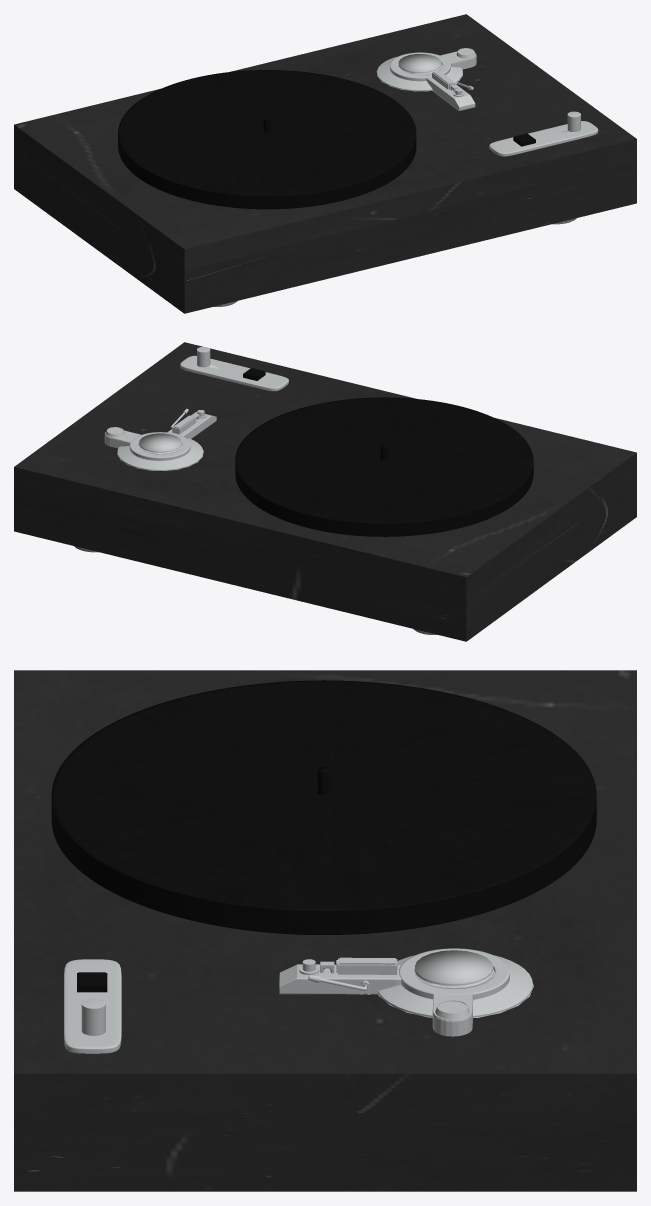
Rendered from giraDischi_base.fbx.
3 views of the same model, one above another, from view 1: azimuth 30°, elevation 25°; view 2: azimuth 150°, elevation 25°; view 3: azimuth 270°, elevation 25° (orthographic). The views are drawn at different scales.
Visible parts, largest first — view 1: giraDischi_LOD0; view 2: giraDischi_LOD0; view 3: giraDischi_LOD0.
Boxes of the visible parts, <box> form: giraDischi_LOD0: <box>14,14,636,313</box>; giraDischi_LOD0: <box>14,342,636,641</box>; giraDischi_LOD0: <box>14,670,636,1191</box>.
Bounding box in the file's own units: 45.18 × 10.25 × 29.49.
